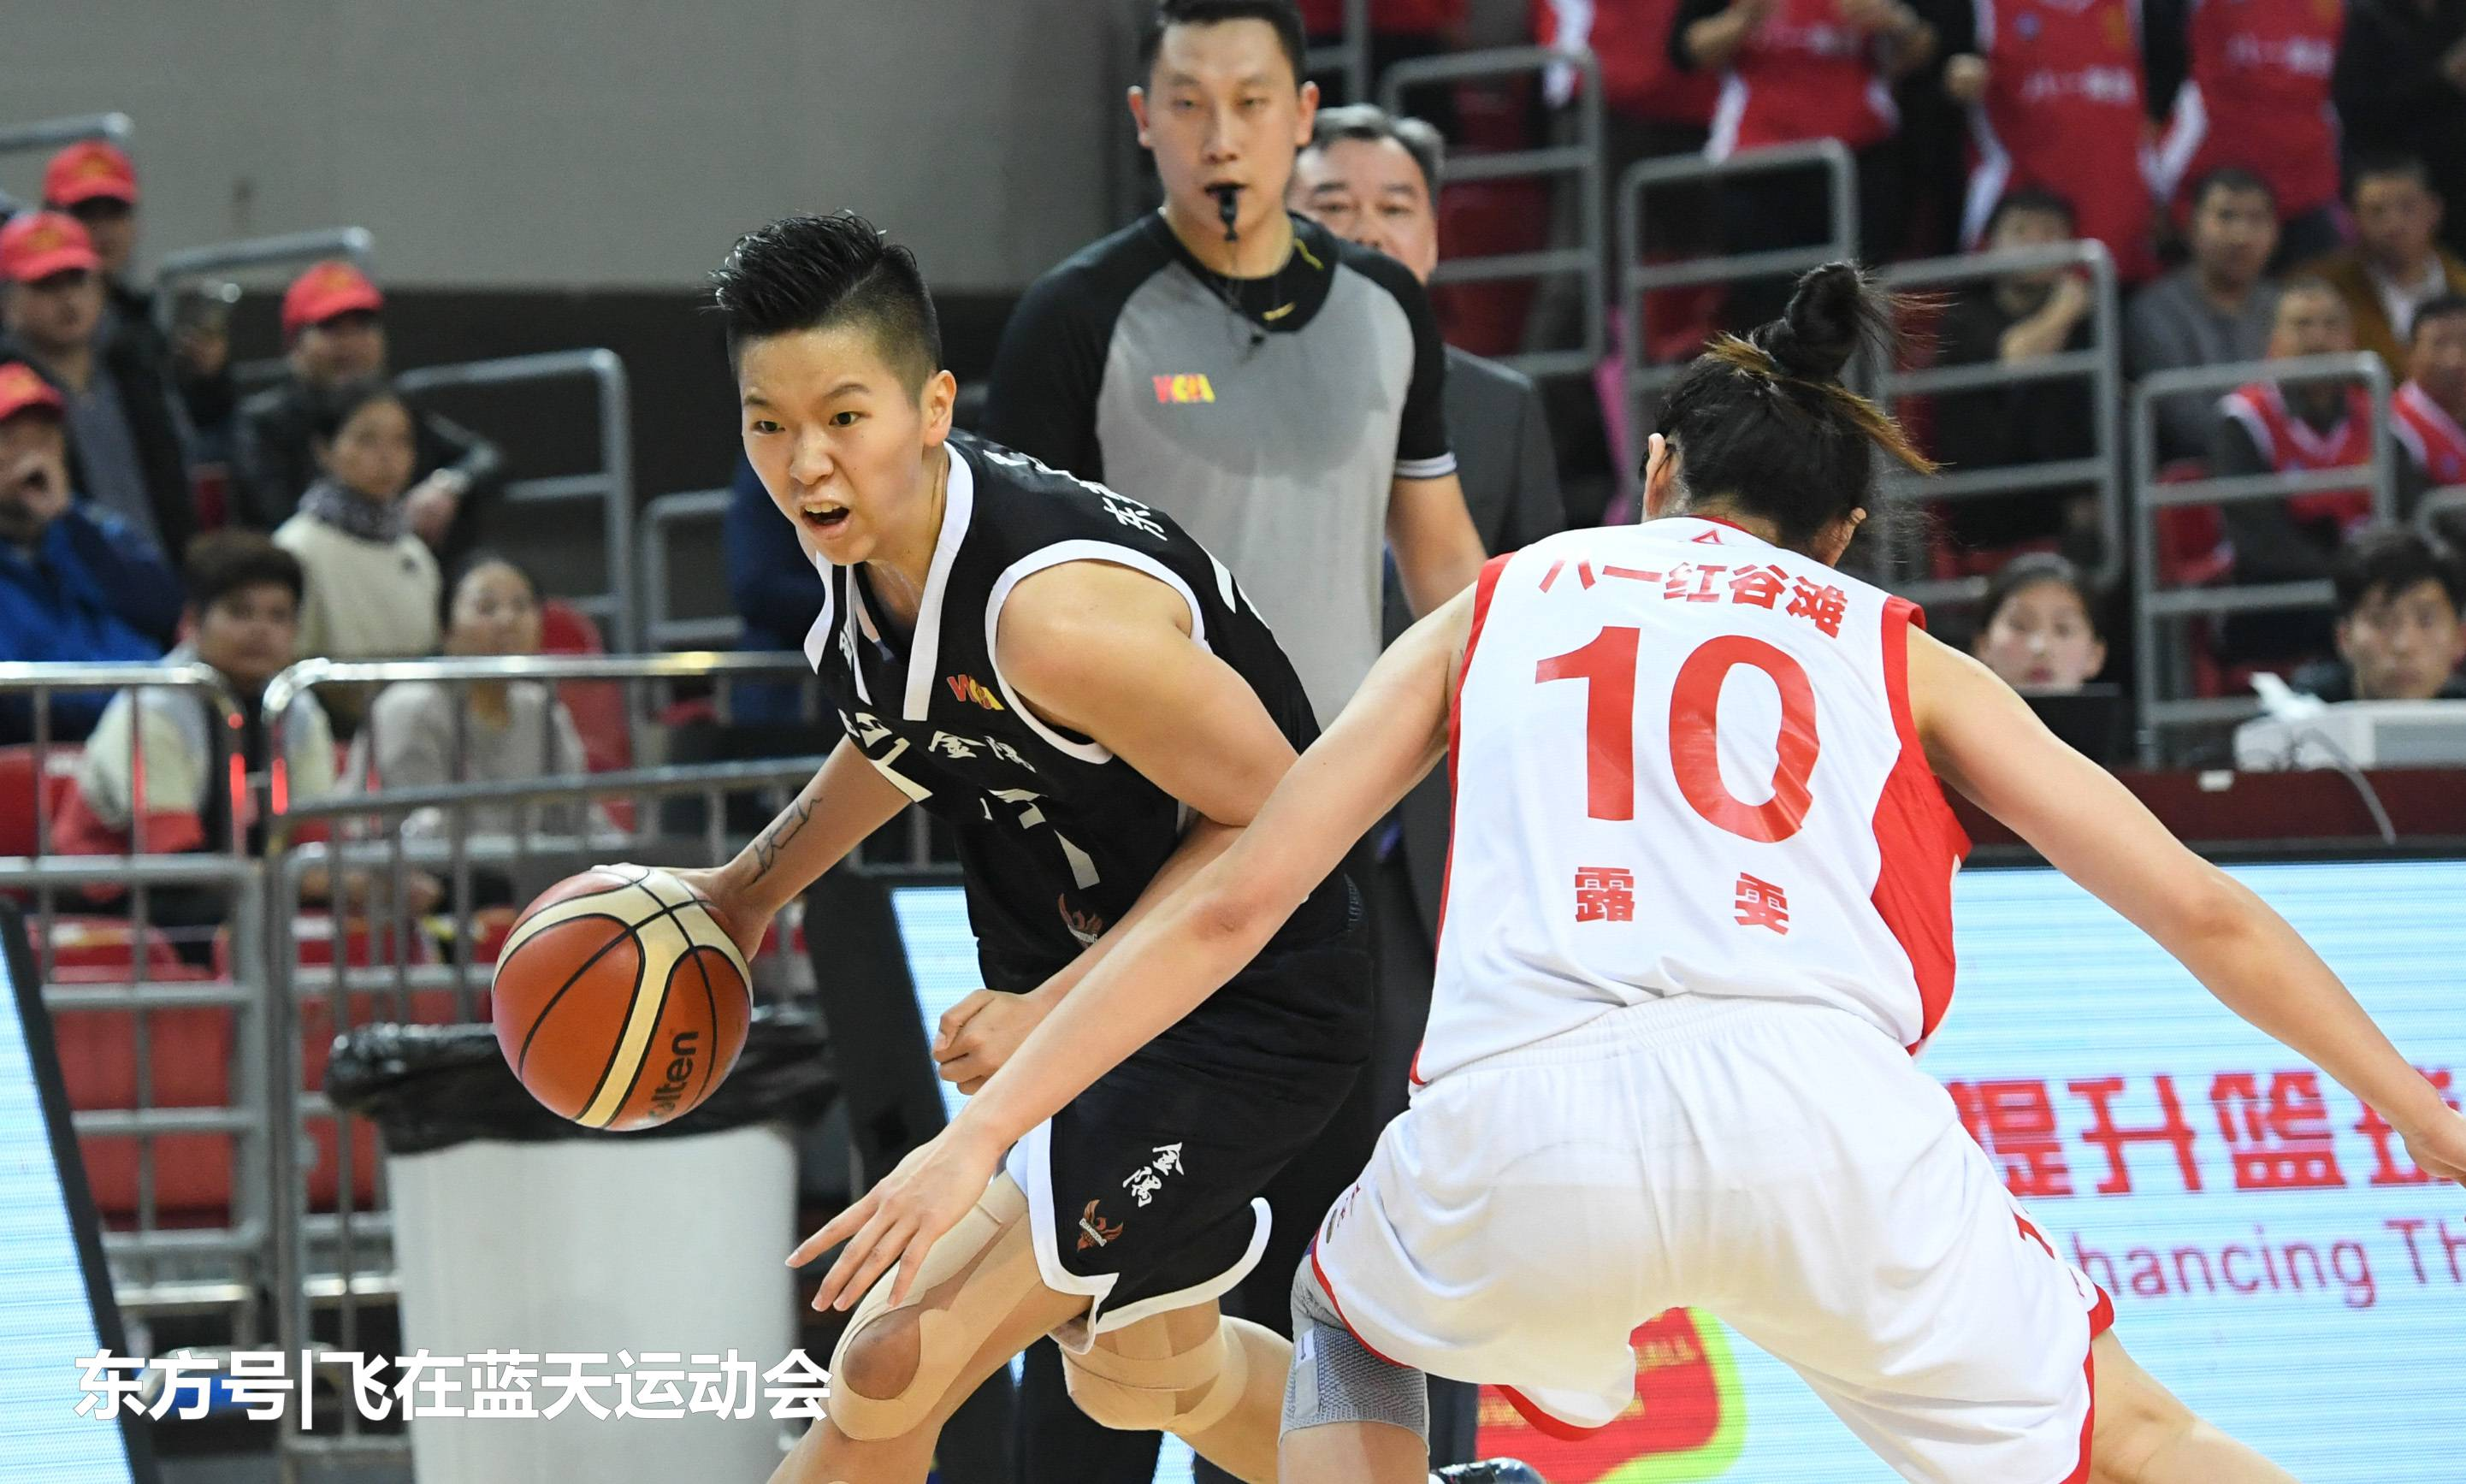ball: (491, 864, 756, 1135)
